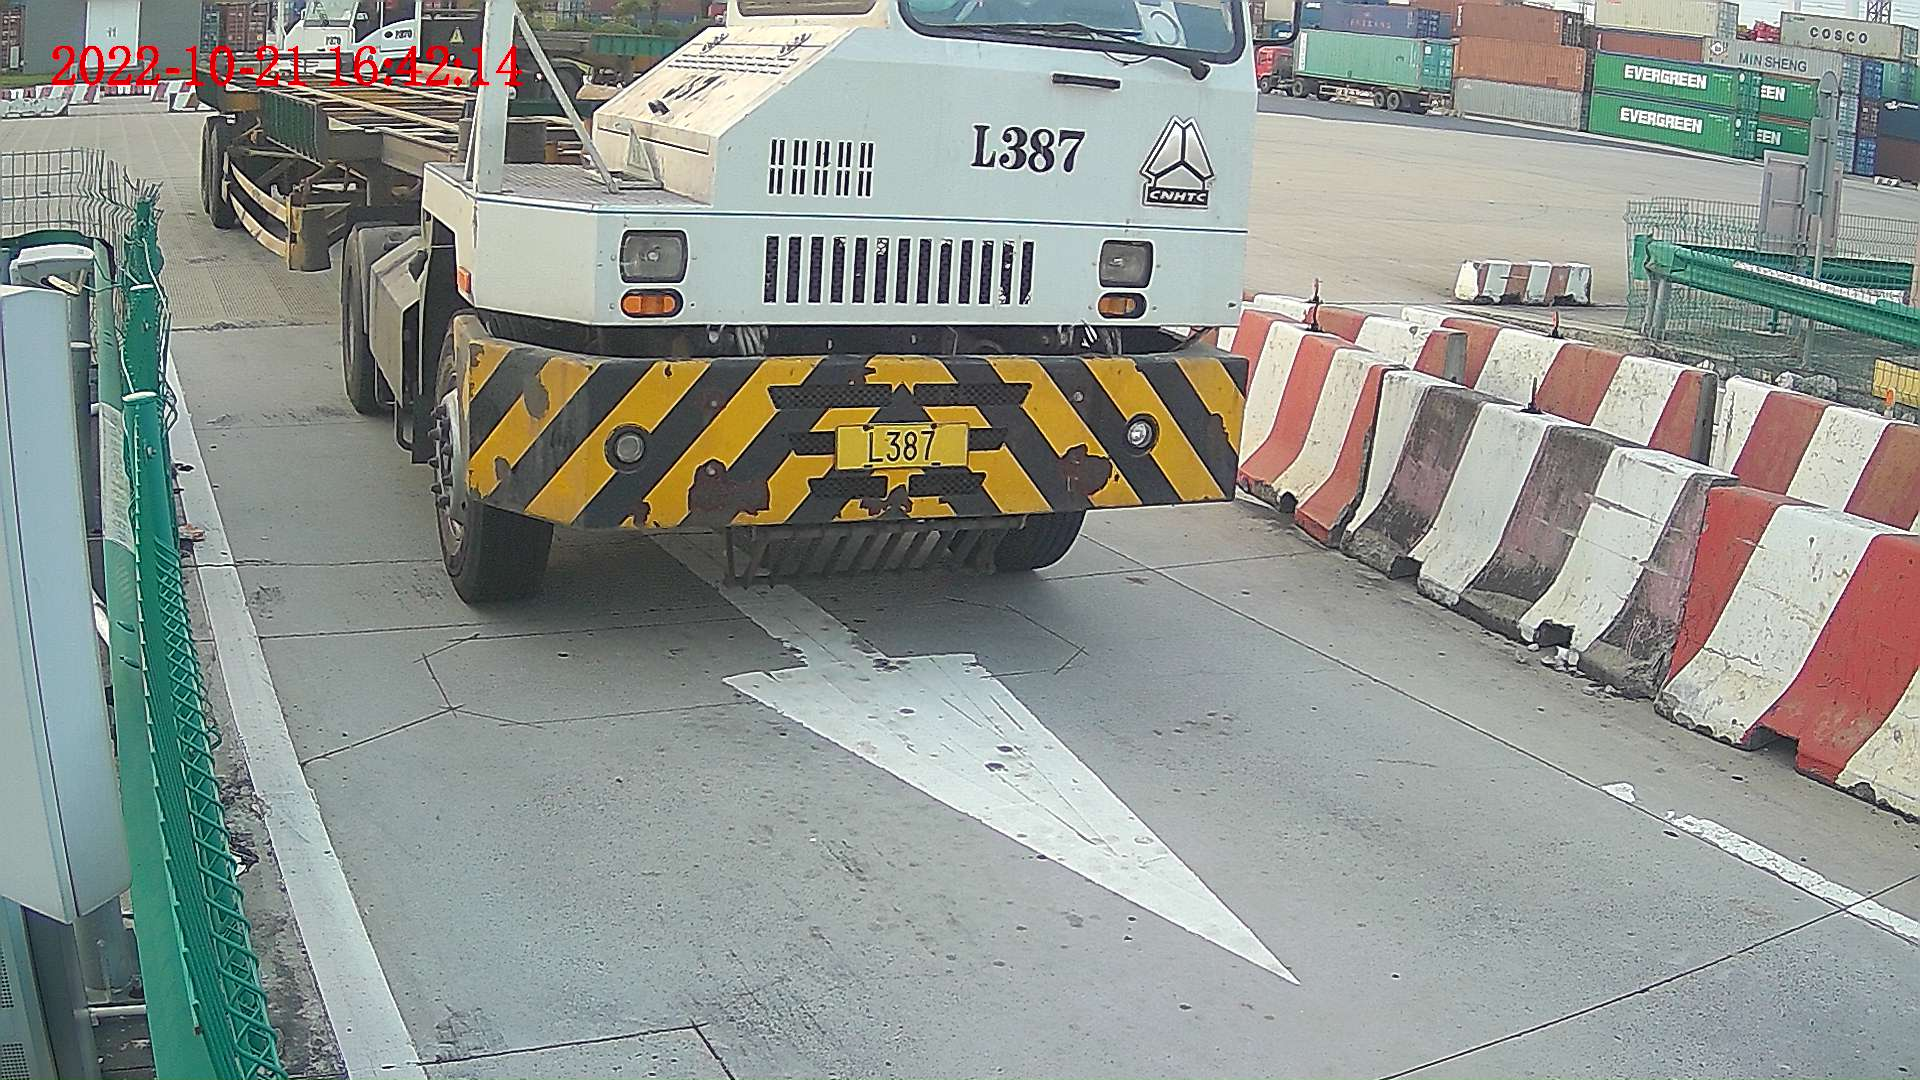head: (414, 1, 1264, 592)
plate: (833, 423, 964, 474)
